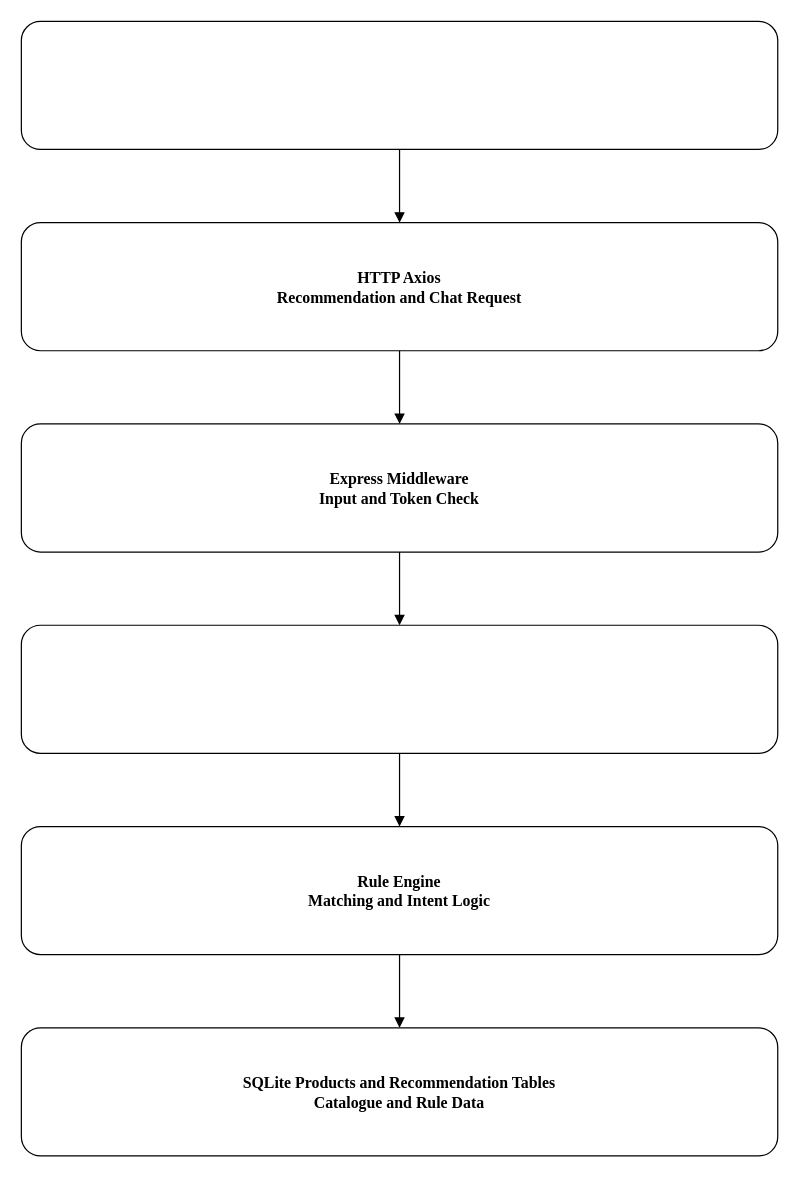
Some shapes in this 799 by 1177 pixel diagram are drawn without their labels. The centre of each missing label's shape, as x and y in pixels:
Client React Product Page and Style Assistant: the point at 399,84
Recommendation Chatbot Controllers Route Requests: the point at 399,688
